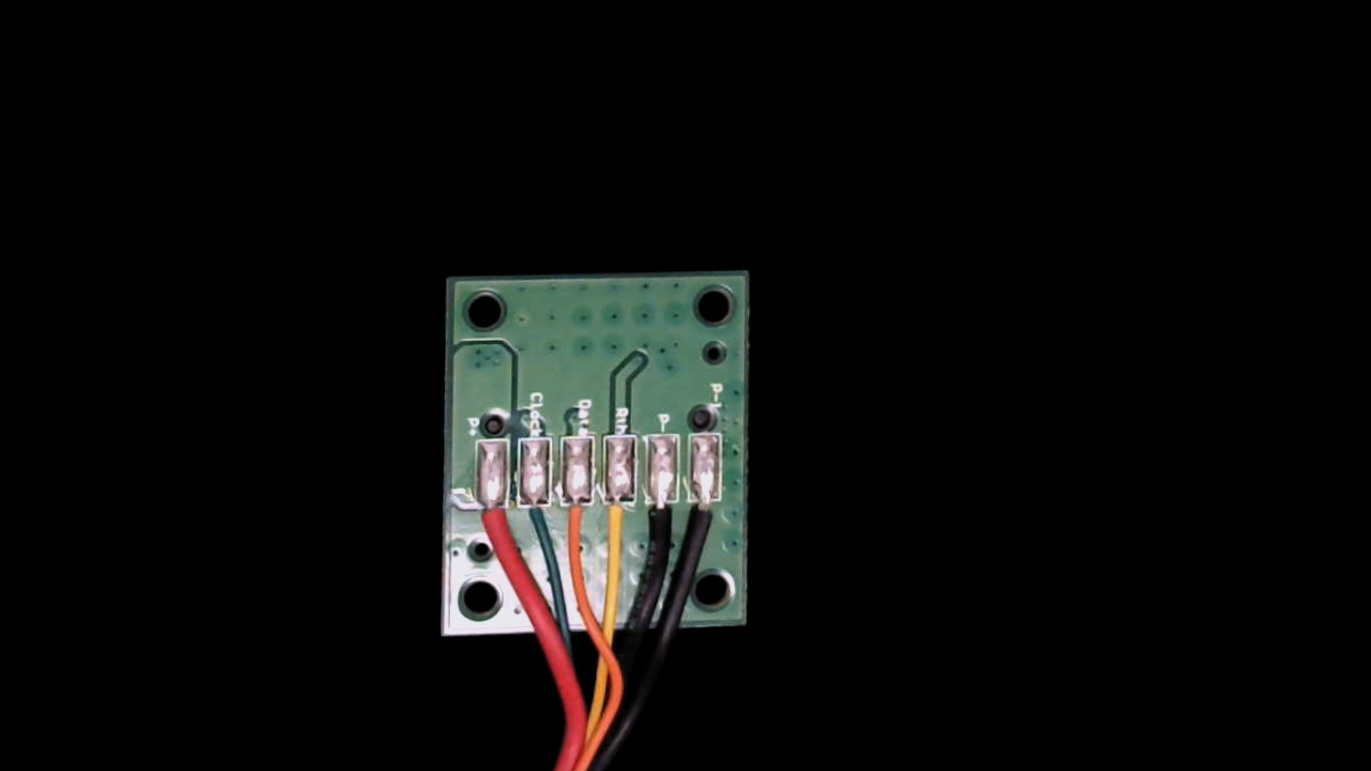Black: (641, 484, 681, 565)
Black1: (688, 482, 727, 556)
Green: (516, 484, 552, 548)
Orange: (558, 482, 596, 556)
Red: (473, 487, 514, 564)
Yellow: (598, 485, 639, 567)
